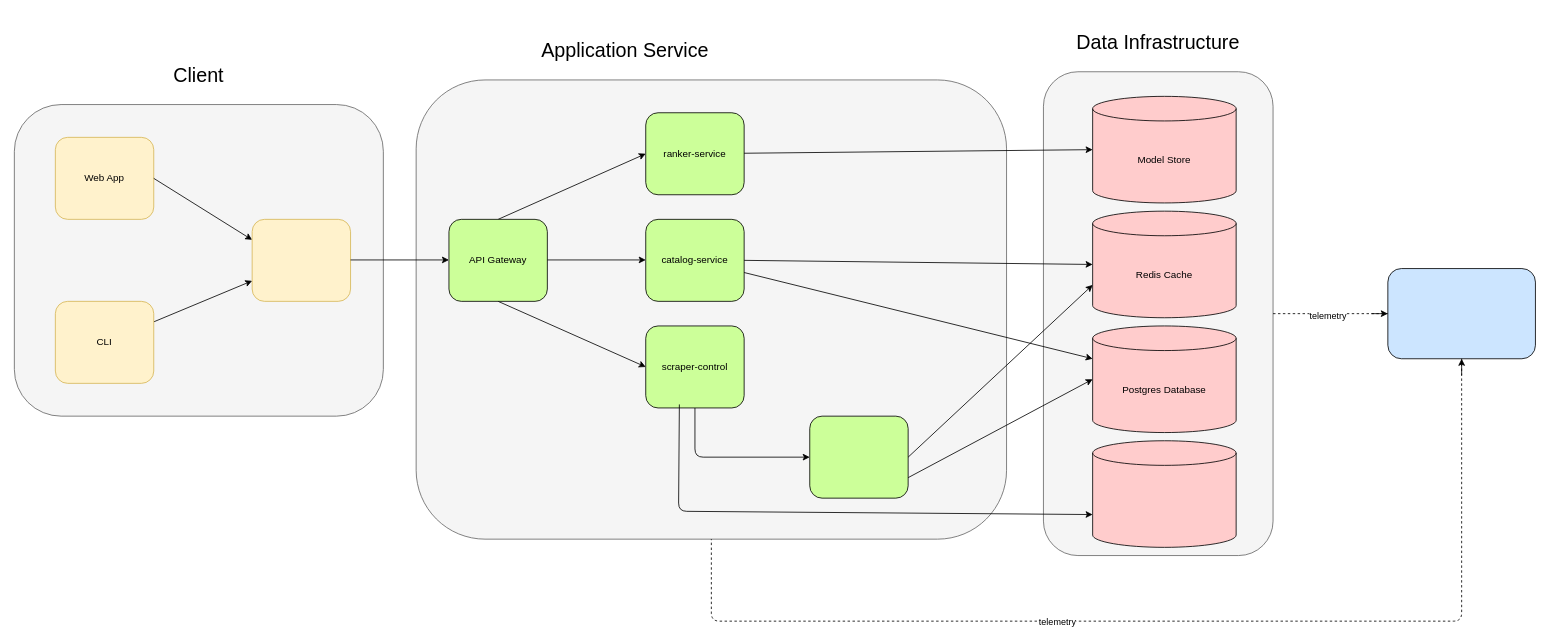
This 1550x640 diagram has some shape labels left out. The centre of each missing label's shape, as x and y in pixels:
"CDN / Edge (TLS, WAF, rate limiting, caching)" belongs at pixel 301 260.
"Metrics / Logs / Traces / Alerts" belongs at pixel 1461 313.
"Queue Redis Streams / SQS" belongs at pixel 1164 493.
"Scraper Workers" belongs at pixel 858 456.
